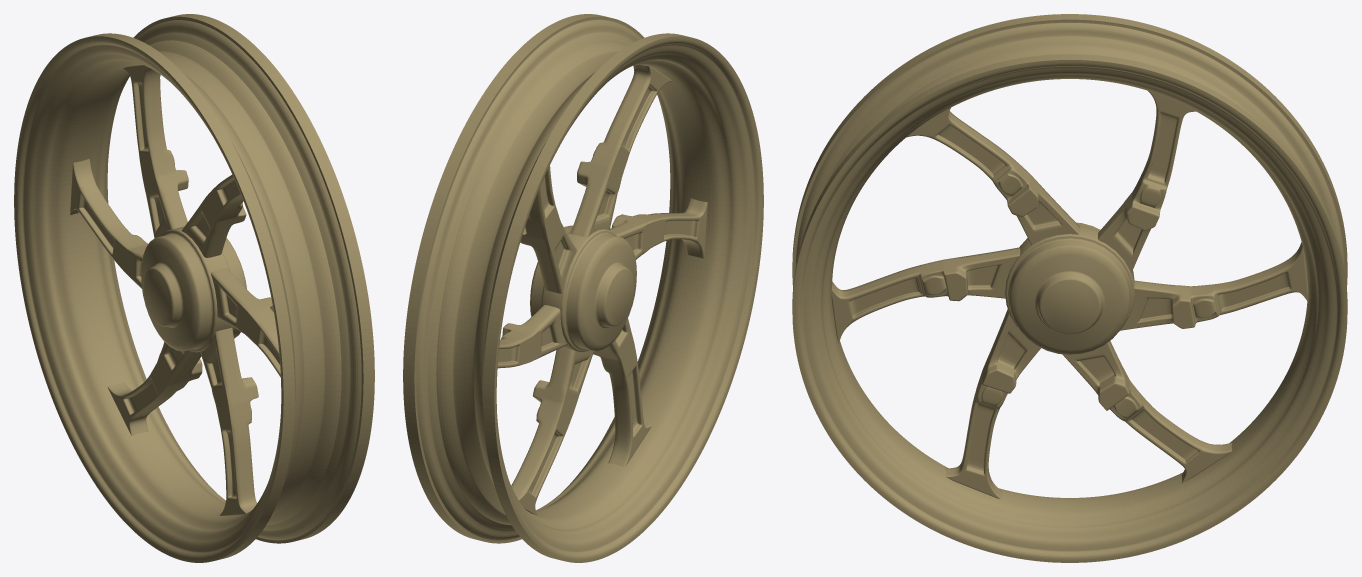
Rendered from y15zr-rim-stock-front.glb.
3 renders of one model, left to right at view 1: azimuth 30°, elevation 25°; view 2: azimuth 150°, elevation 25°; view 3: azimuth 270°, elevation 25°, orthographic. The views are drawn at different scales.
Visible parts, largest first — view 1: RIM_FRONT_STOCK; view 2: RIM_FRONT_STOCK; view 3: RIM_FRONT_STOCK.
Boxes of the visible parts, x1,y1,x2,y2 form: RIM_FRONT_STOCK: (14, 14, 374, 562); RIM_FRONT_STOCK: (403, 14, 763, 562); RIM_FRONT_STOCK: (792, 14, 1347, 562).
Bounding box in the file's own units: 0.247 × 1.26 × 1.26.
